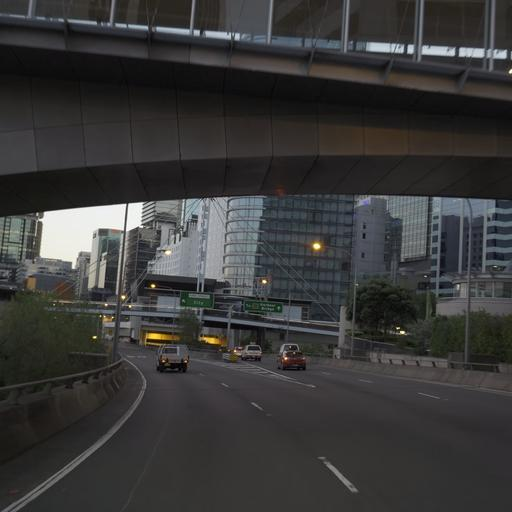Street light: (111, 247, 171, 360), (311, 240, 357, 356), (284, 239, 321, 343), (422, 273, 430, 319)
